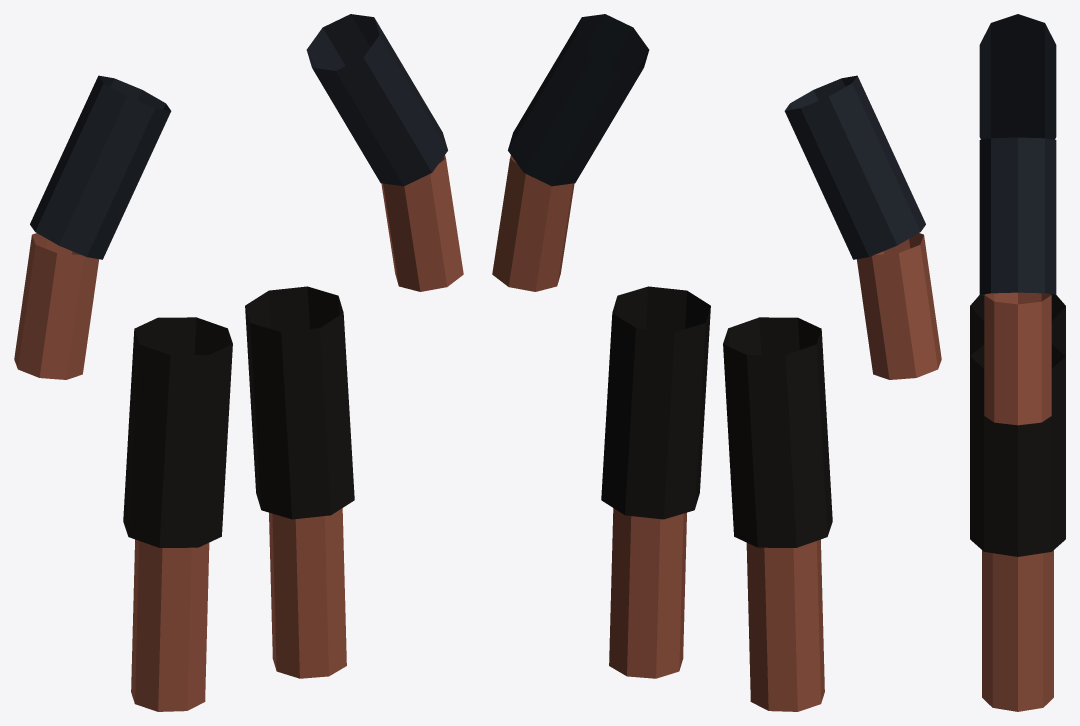
Rendered from human_ps1_fleshy_v2.obj.
3 views of the same model, side by side, from view 1: azimuth 30°, elevation 25°; view 2: azimuth 150°, elevation 25°; view 3: azimuth 270°, elevation 25° (orthographic). The views are drawn at different scales.
Bounding box in the file's own units: 2 × 2.72 × 0.4.
